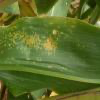Corn rust leaf: (0, 12, 99, 98)
